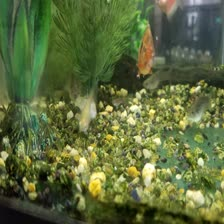Guppy: (73, 79, 107, 134), (183, 85, 213, 123), (142, 65, 172, 93)
Transparente: (133, 18, 160, 74)
